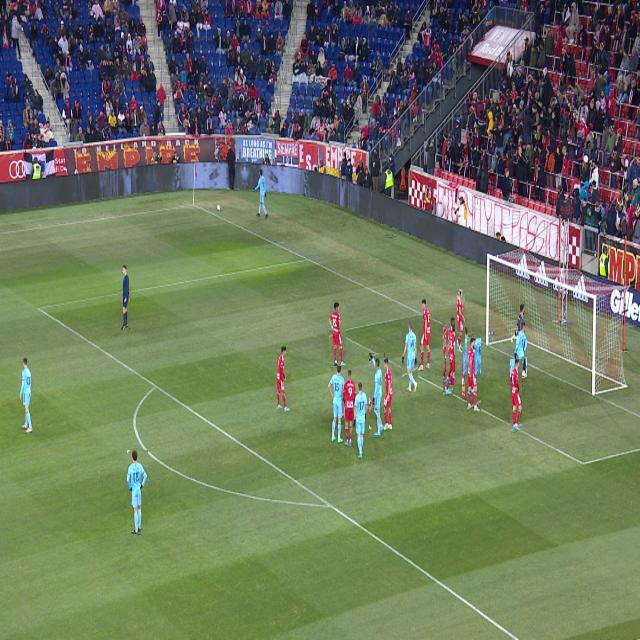goalkeeper: (518, 304, 525, 334), (522, 358, 527, 377), (511, 330, 518, 343)
player: (127, 450, 148, 534), (328, 364, 345, 443), (370, 354, 384, 436), (353, 382, 368, 458), (402, 321, 418, 392), (329, 303, 346, 366), (467, 338, 481, 412), (417, 299, 431, 370), (343, 370, 356, 446), (20, 357, 33, 433), (277, 347, 290, 412), (382, 358, 393, 431), (511, 359, 522, 431), (514, 323, 527, 378), (463, 328, 473, 398), (444, 323, 453, 395), (447, 318, 455, 385), (457, 290, 465, 353), (474, 387, 477, 395), (445, 380, 448, 383)
referee: (122, 265, 129, 330)
